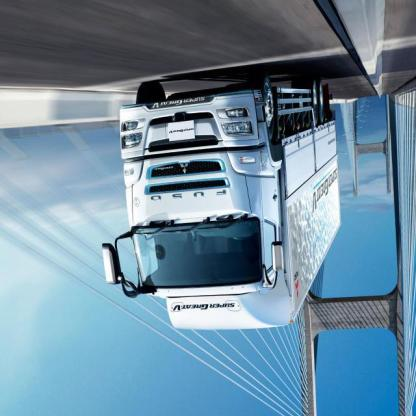truck: (105, 71, 342, 333)
